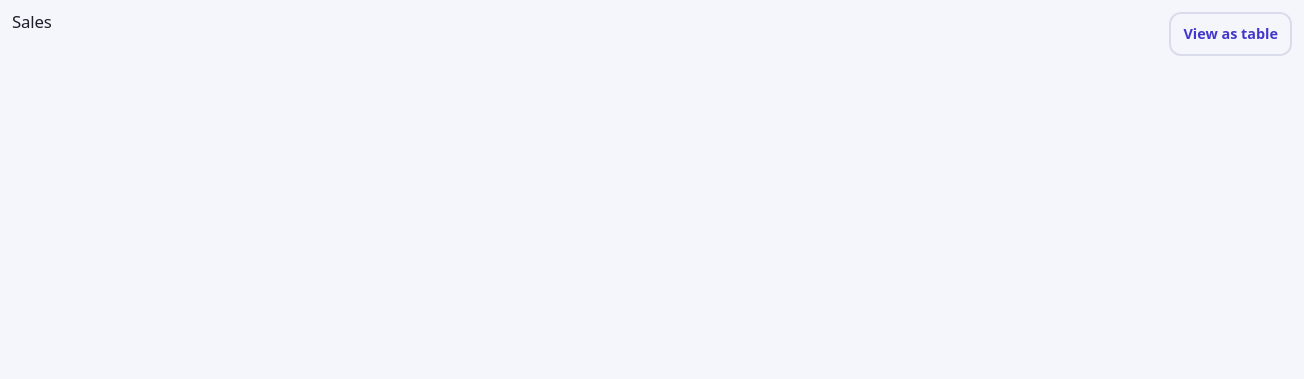
it: Chart › labels the chart for assistive tech and toggles a data table
Click the button "View as table".
click(1231, 34)  # box [1170,12,1292,56]
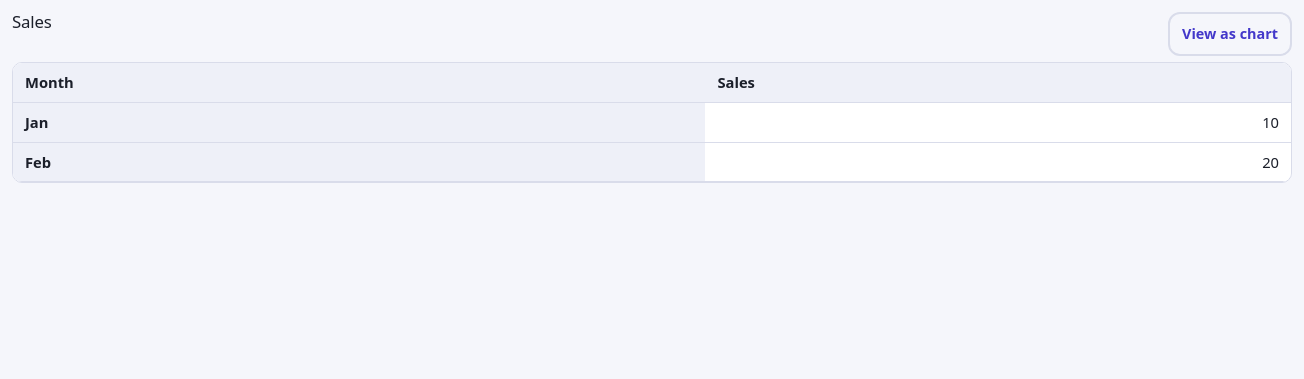
Check: the table is shown, box [13,63,1291,182]
Check: the column heading "Jan" is shown, box [13,103,705,142]
